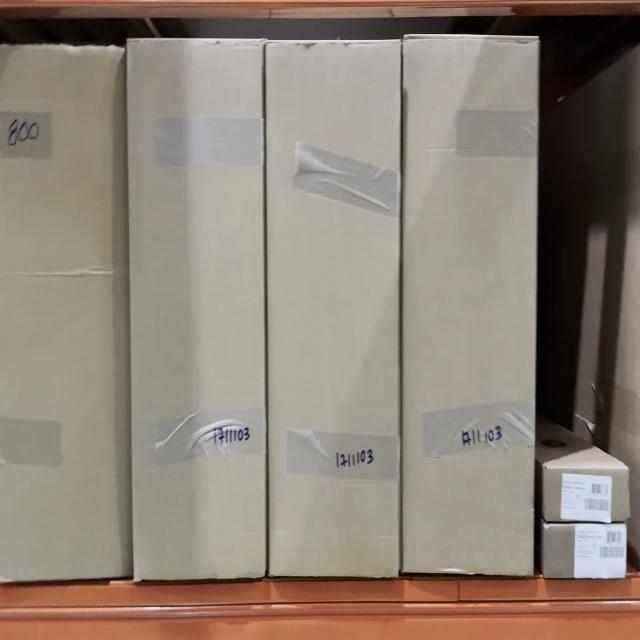box: (129, 39, 264, 576), (267, 43, 400, 573), (405, 37, 537, 570), (544, 464, 628, 521), (548, 525, 627, 579)
